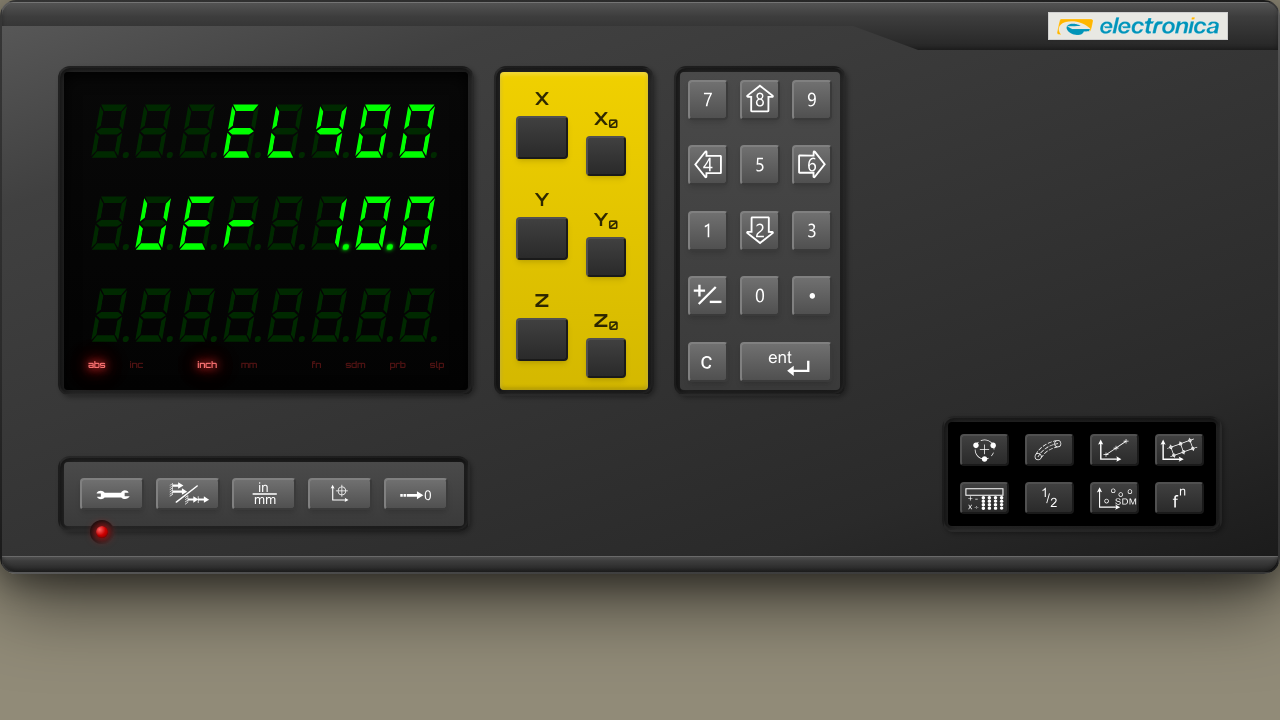
Test: Self-diagnostics integration tests › AC 46.1/46.2: ▲ during boot enters memory diagnostics showing RAM pass
The image size is (1280, 720).
Click the button with test id "key-8": (760, 100) [740, 80, 780, 120]
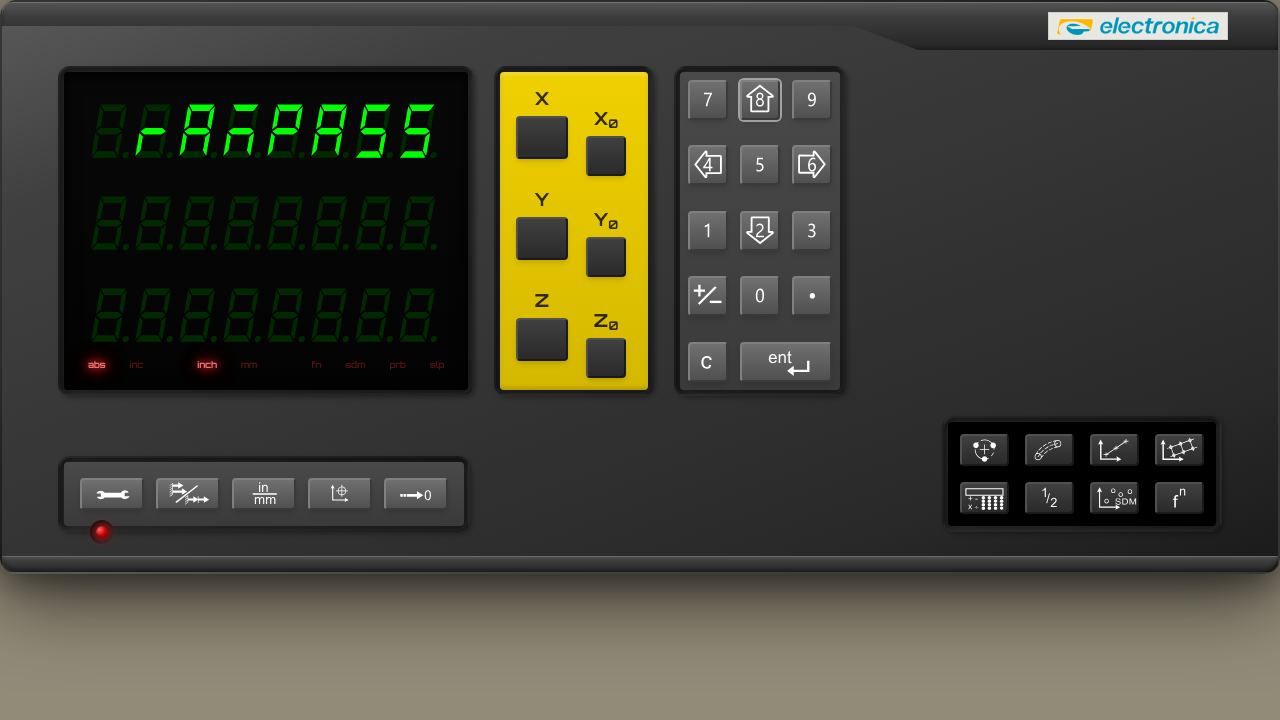
expect the cell with test id "axis-value-x" reads "rAmPASS": met, box [121, 116, 211, 136]
